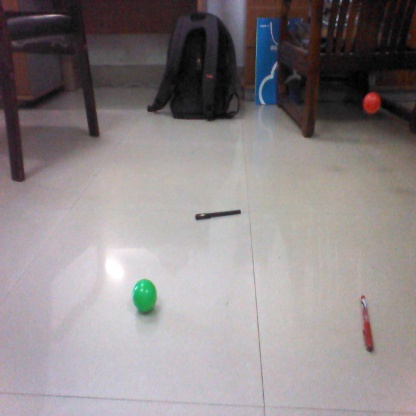ball: (129, 279, 160, 313), (360, 92, 380, 115)
pen: (358, 293, 377, 354), (193, 209, 244, 223)
